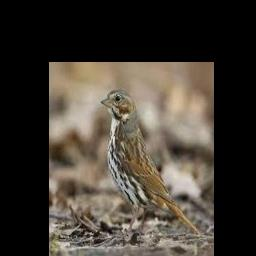Sparrow: (100, 89, 201, 235)
